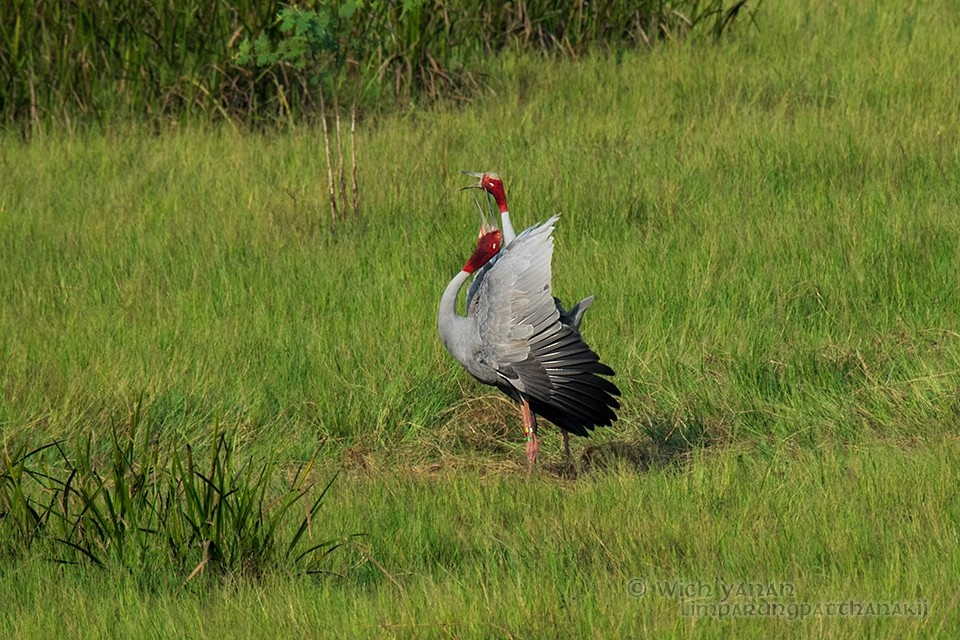crane: (441, 200, 609, 470), (459, 163, 517, 241)
